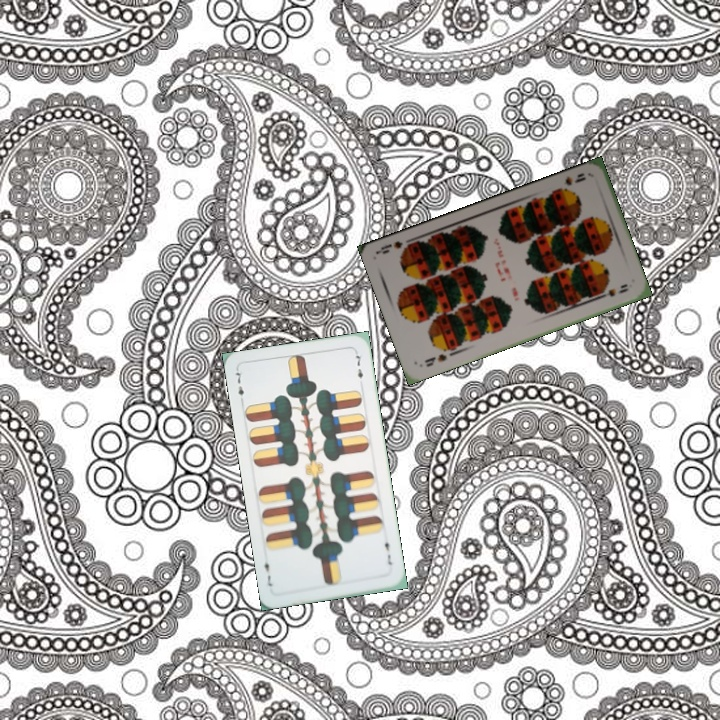E7: (232, 367, 246, 406), (380, 534, 395, 568)
S9: (553, 169, 588, 195), (421, 350, 449, 369)
